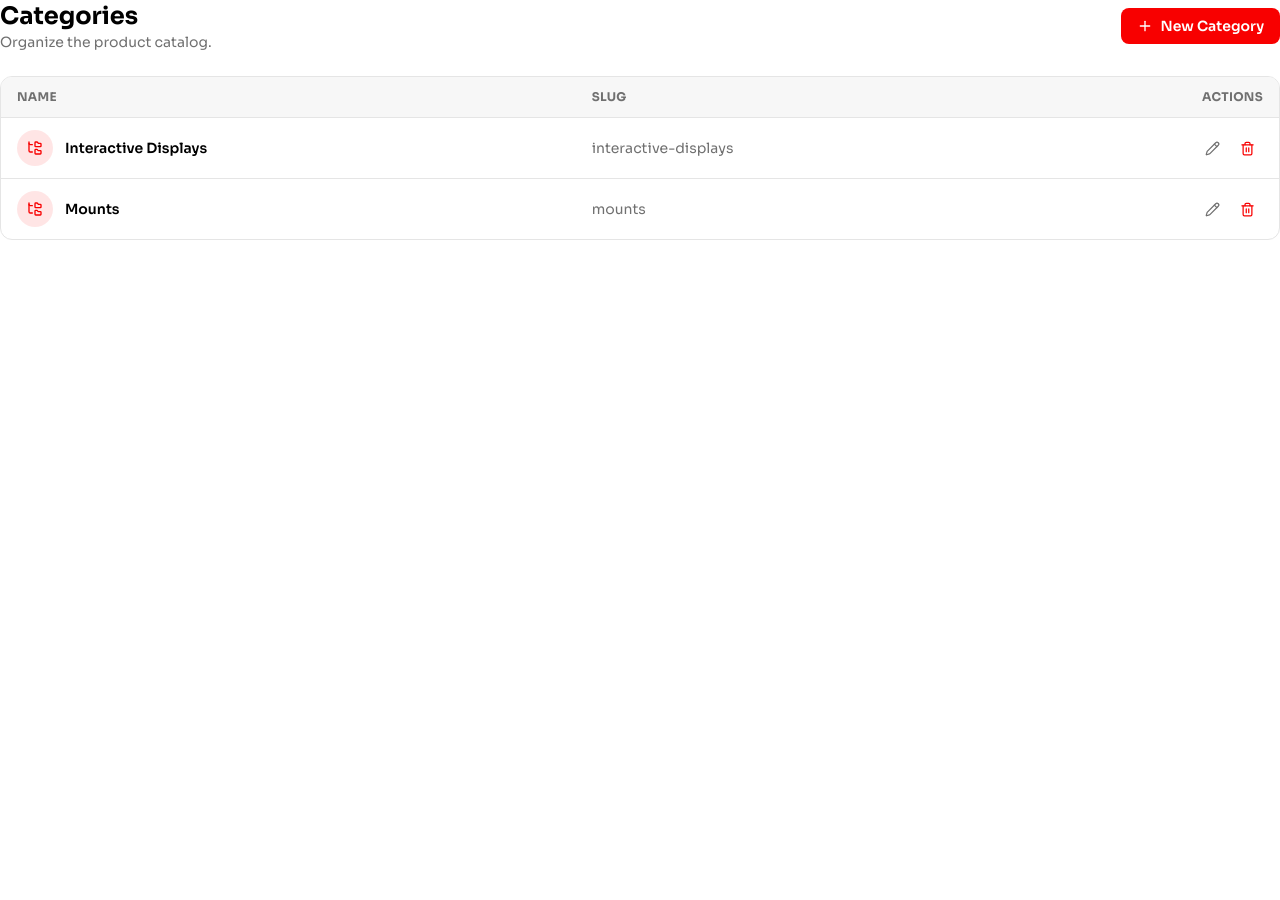
Test case: Admin Categories › edits a category and shows a success toast
Expected: the text "Mounts" is shown, [65,199,120,219]
Click the 2nd button titled "Edit". click: click(1212, 209)
box: [1197,194,1228,224]
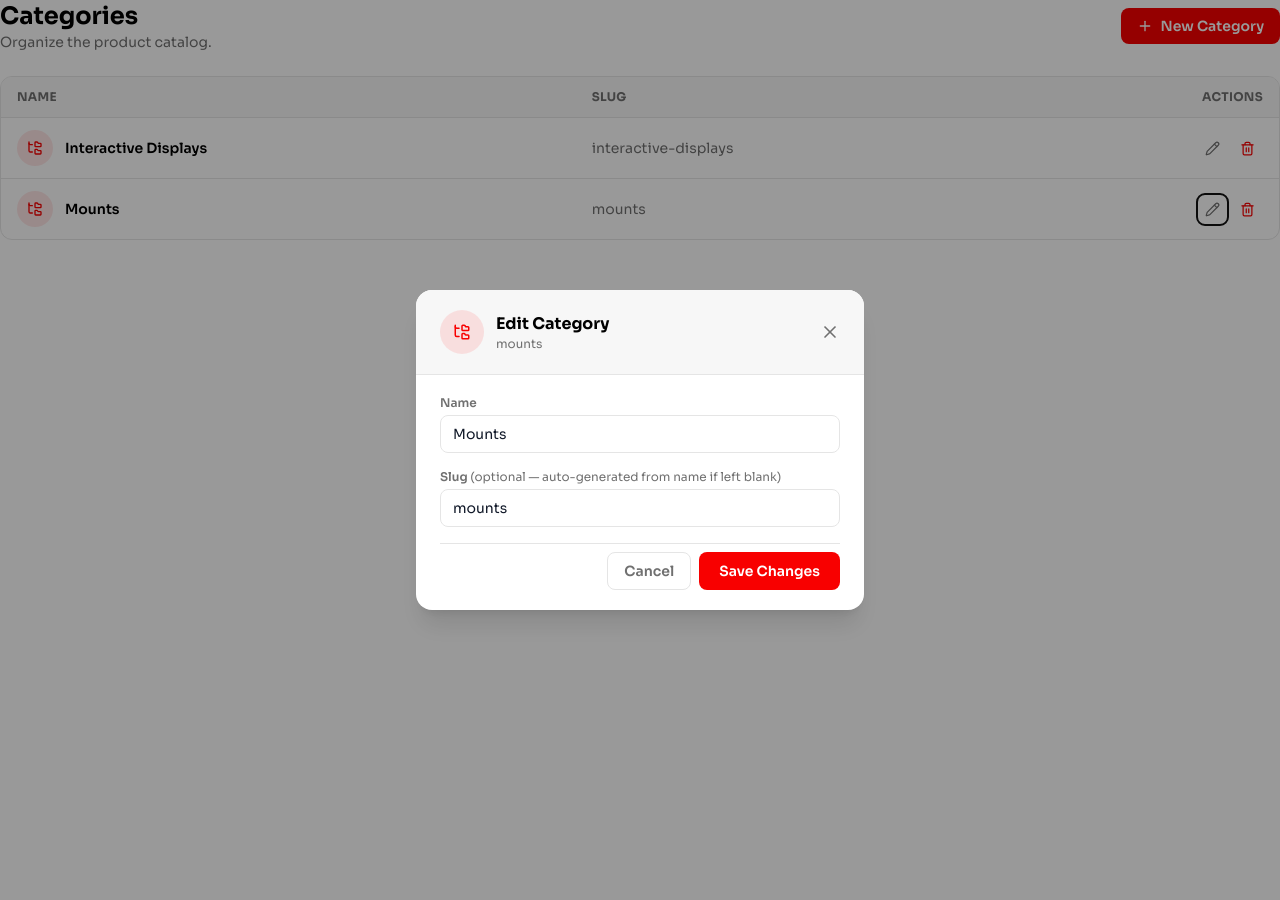
Expected: the field labelled "Name" holds "Mounts"
Replace the text in the field labelled "Name" with "Wall Mounts". click: (640, 434)
box: [440,415,840,453]
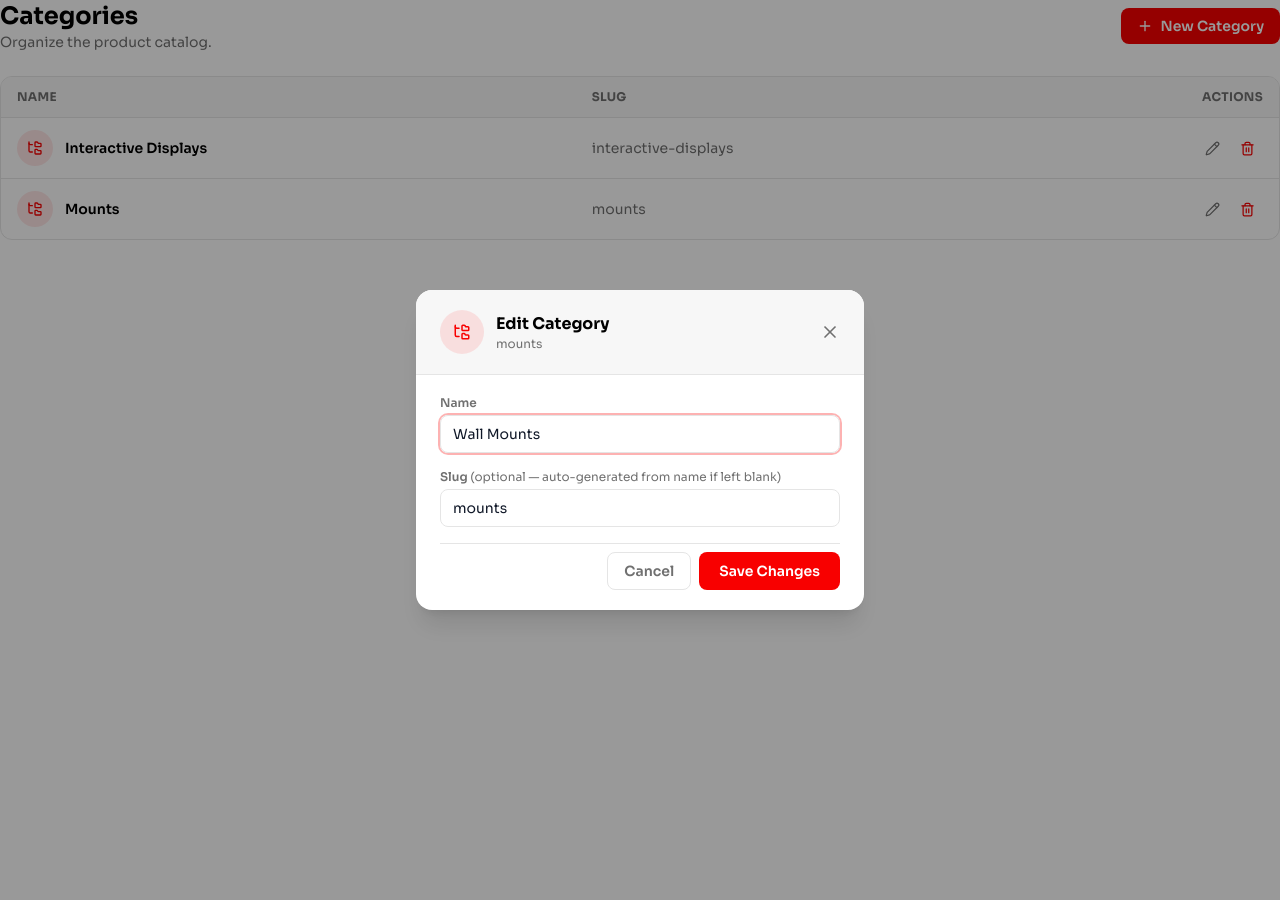
Click the button "Save Changes". click: click(770, 571)
box: [699,552,840,590]
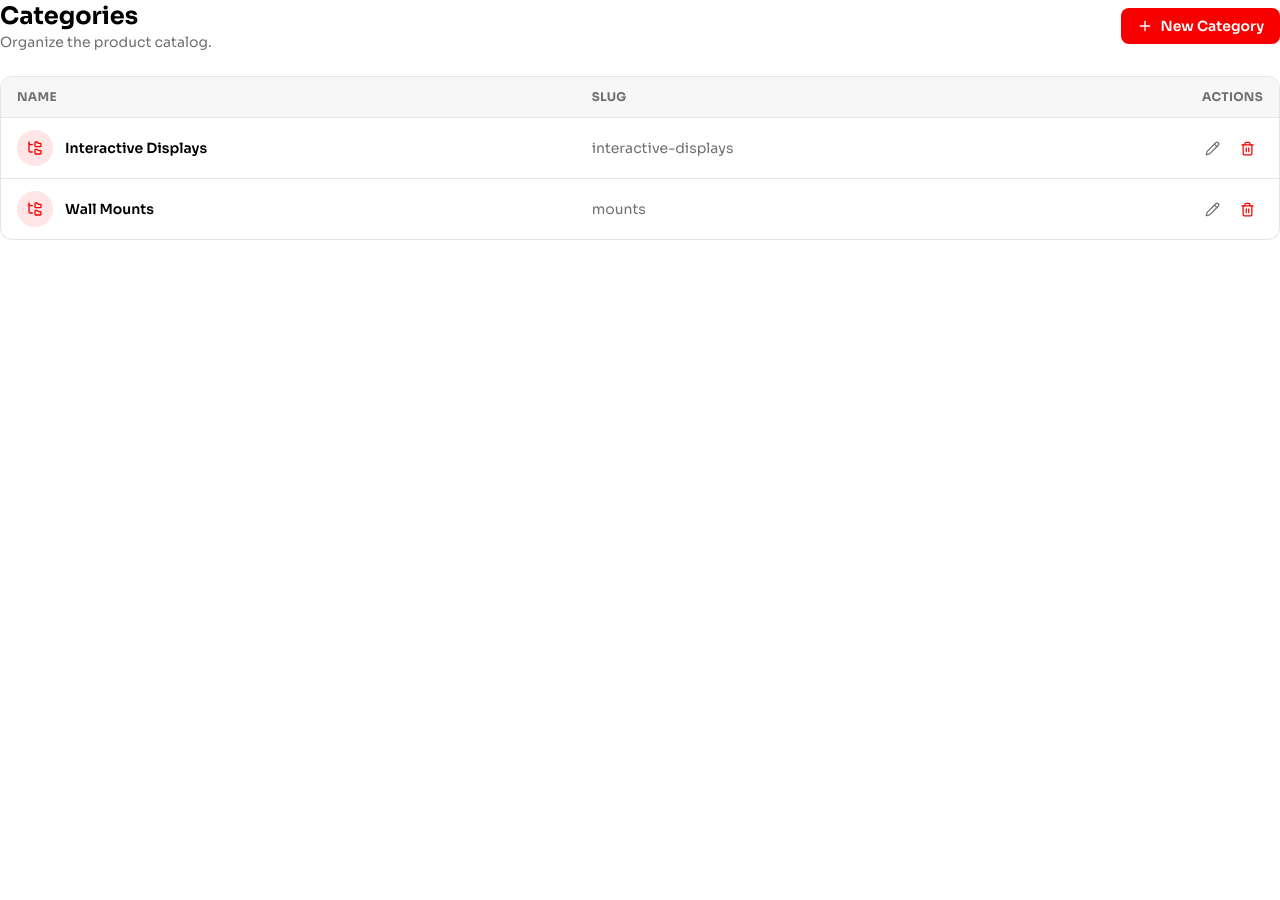
Expected: the text "Wall Mounts" is shown, [65,199,154,219]
